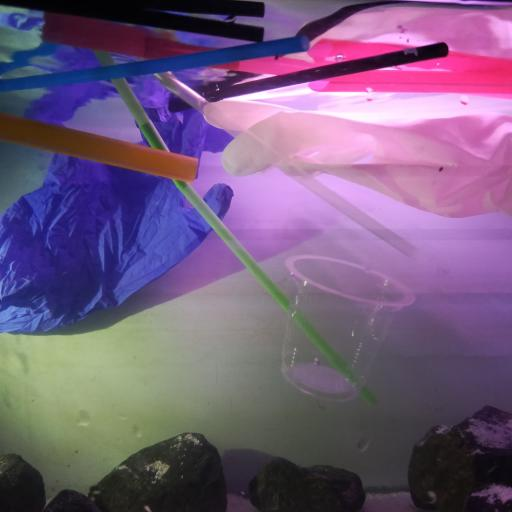glove: (0, 106, 235, 335), (221, 106, 512, 216)
plastic_cup: (280, 253, 416, 405)
plastic_straw: (93, 53, 376, 407), (157, 71, 416, 258), (170, 41, 448, 113), (0, 34, 310, 93), (42, 11, 318, 76), (0, 112, 199, 186), (0, 0, 266, 42), (306, 67, 512, 95)
